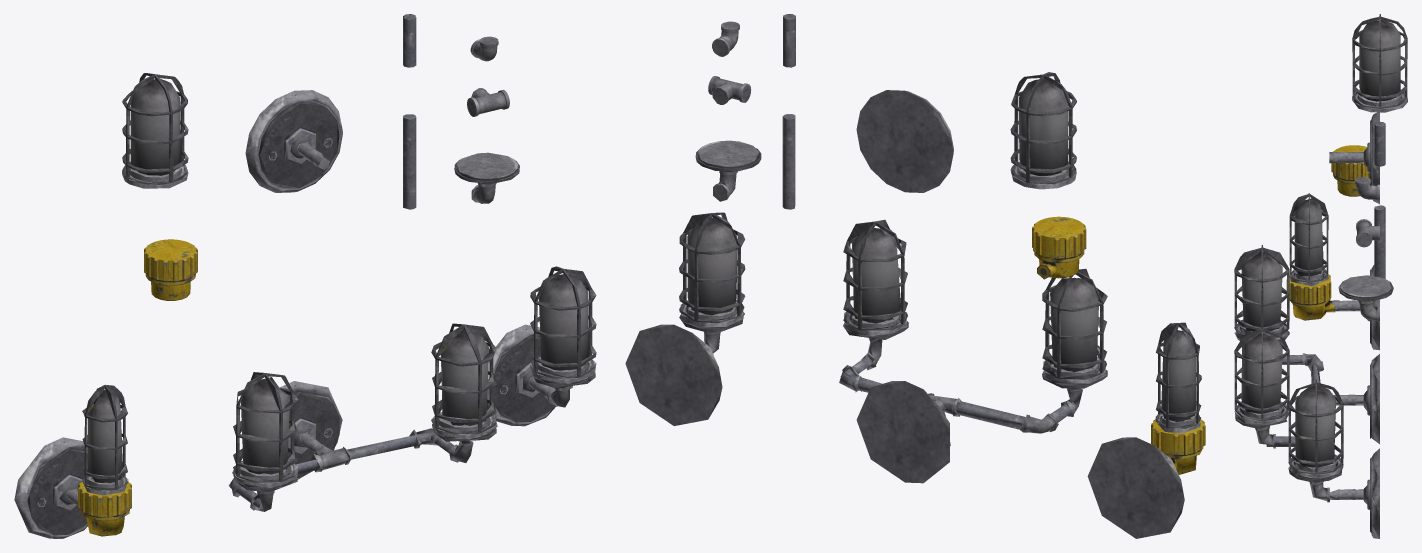
The model's file is industrial_caged_sconce.glb.
3 views of the same model, side by side, from view 1: azimuth 30°, elevation 25°; view 2: azimuth 150°, elevation 25°; view 3: azimuth 270°, elevation 25° (orthographic). The views are drawn at different scales.
Visible parts, largest first — view 1: industrial_caged_sconce_c, industrial_caged_sconce_b, industrial_caged_sconce_a, industrial_caged_sconce_mount, industrial_caged_sconce_light, industrial_caged_sconce_base_a, industrial_caged_sconce_base_b, industrial_caged_sconce_pipe_long, industrial_caged_sconce_pipe_t, industrial_caged_sconce_pipe_short; view 2: industrial_caged_sconce_c, industrial_caged_sconce_a, industrial_caged_sconce_b, industrial_caged_sconce_mount, industrial_caged_sconce_light, industrial_caged_sconce_base_a, industrial_caged_sconce_base_b, industrial_caged_sconce_pipe_long, industrial_caged_sconce_pipe_t, industrial_caged_sconce_pipe_short; view 3: industrial_caged_sconce_c, industrial_caged_sconce_a, industrial_caged_sconce_b, industrial_caged_sconce_light, industrial_caged_sconce_base_b, industrial_caged_sconce_base_a, industrial_caged_sconce_mount, industrial_caged_sconce_pipe_long, industrial_caged_sconce_pipe_t, industrial_caged_sconce_pipe_short, industrial_caged_sconce_elbow.
Boxes of the visible parts, box(x1,y1,x2,y2) form: industrial_caged_sconce_c: box(228, 323, 497, 511); industrial_caged_sconce_b: box(14, 384, 131, 538); industrial_caged_sconce_a: box(486, 266, 596, 426); industrial_caged_sconce_mount: box(245, 90, 342, 192); industrial_caged_sconce_light: box(122, 73, 188, 188); industrial_caged_sconce_base_a: box(144, 239, 197, 300); industrial_caged_sconce_base_b: box(454, 152, 519, 203); industrial_caged_sconce_pipe_long: box(403, 114, 416, 209); industrial_caged_sconce_pipe_t: box(467, 88, 509, 116); industrial_caged_sconce_pipe_short: box(403, 14, 416, 67); industrial_caged_sconce_c: box(839, 219, 1107, 483); industrial_caged_sconce_a: box(625, 212, 745, 425); industrial_caged_sconce_b: box(1087, 322, 1205, 538); industrial_caged_sconce_mount: box(856, 90, 953, 192); industrial_caged_sconce_light: box(1010, 72, 1076, 189); industrial_caged_sconce_base_a: box(1032, 216, 1086, 279); industrial_caged_sconce_base_b: box(695, 140, 761, 201); industrial_caged_sconce_pipe_long: box(782, 114, 795, 209); industrial_caged_sconce_pipe_t: box(708, 76, 751, 104); industrial_caged_sconce_pipe_short: box(783, 14, 795, 67); industrial_caged_sconce_c: box(1234, 245, 1379, 448); industrial_caged_sconce_a: box(1288, 380, 1379, 538); industrial_caged_sconce_b: box(1286, 193, 1379, 350); industrial_caged_sconce_light: box(1352, 14, 1407, 112); industrial_caged_sconce_base_b: box(1338, 275, 1393, 321); industrial_caged_sconce_base_a: box(1331, 145, 1369, 196); industrial_caged_sconce_mount: box(1329, 111, 1379, 204); industrial_caged_sconce_pipe_long: box(1374, 205, 1385, 278); industrial_caged_sconce_pipe_t: box(1356, 219, 1379, 247); industrial_caged_sconce_pipe_short: box(1374, 121, 1385, 166); industrial_caged_sconce_elbow: box(1354, 177, 1379, 200).
Size of the model in its own units: 1.21 by 0.9128 by 0.3894.
1 material, 1 textured.
